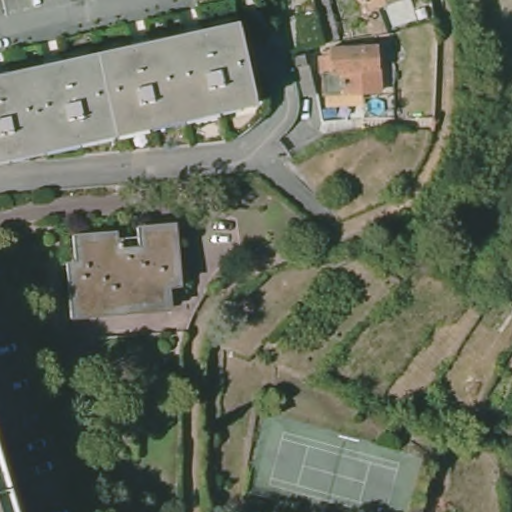pool: (363, 91, 393, 116)
